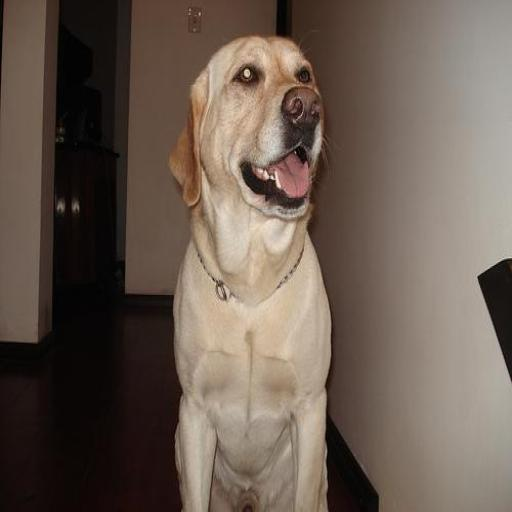dog_face: (180, 33, 327, 225)
